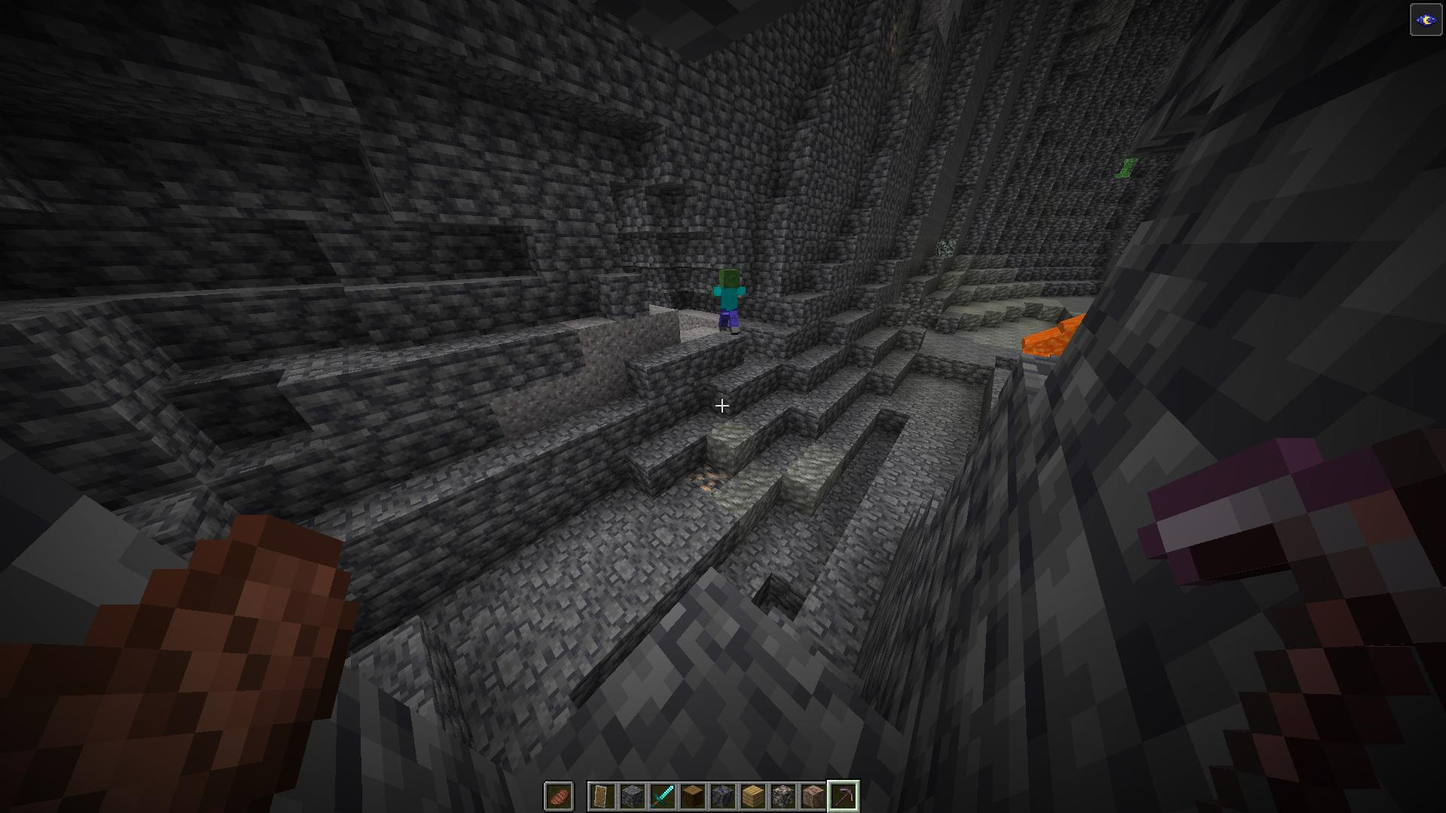iron ore: (690, 462, 725, 494), (885, 11, 901, 54)
